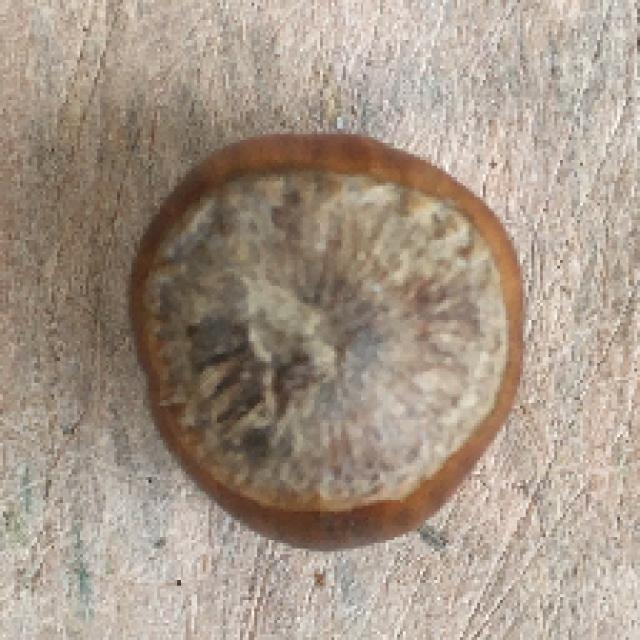qualityHazelnut: (128, 132, 526, 548)
